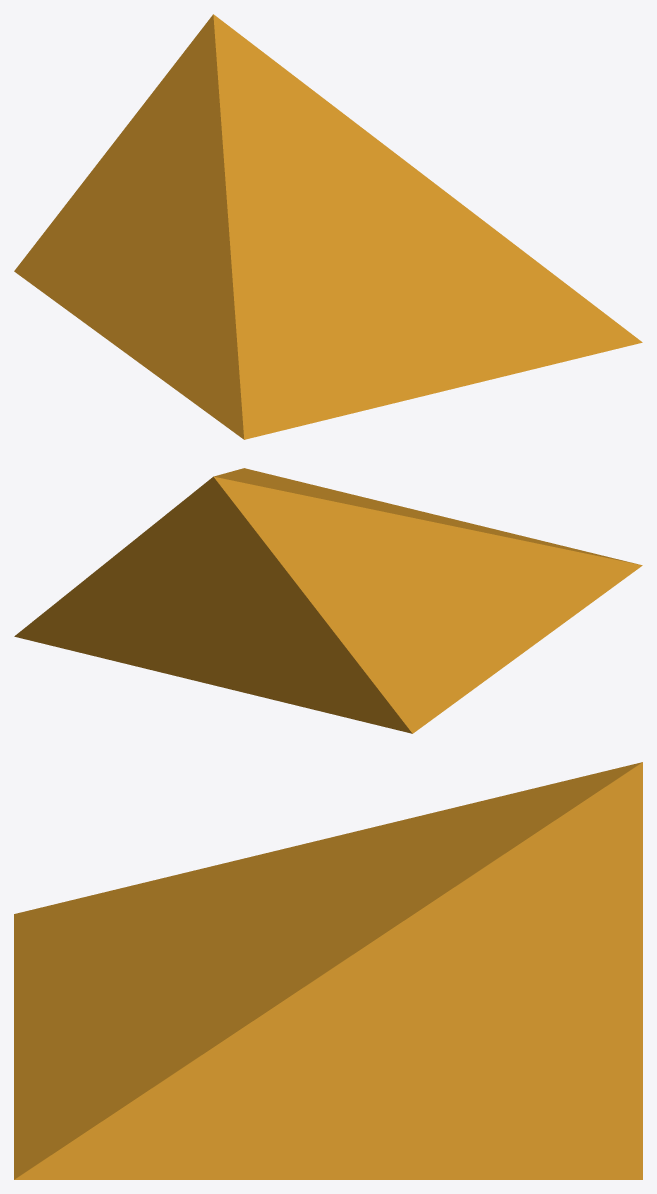
The model's file is Roof-Mid-4x4x2-Hip-End.FBX.
3 renders of one model, top to bottom at view 1: azimuth 30°, elevation 25°; view 2: azimuth 150°, elevation 25°; view 3: azimuth 270°, elevation 25°, orthographic. The views are drawn at different scales.
Parts seen in each view (by area): view 1: Roof-Mid-4x4x2-Hip-End; view 2: Roof-Mid-4x4x2-Hip-End; view 3: Roof-Mid-4x4x2-Hip-End.
Part boxes in pixels (x1,y1,x2,y2): Roof-Mid-4x4x2-Hip-End: [14, 14, 642, 439]; Roof-Mid-4x4x2-Hip-End: [14, 468, 642, 733]; Roof-Mid-4x4x2-Hip-End: [14, 762, 642, 1179].
Size of the model in its own units: 40 by 40 by 20.
